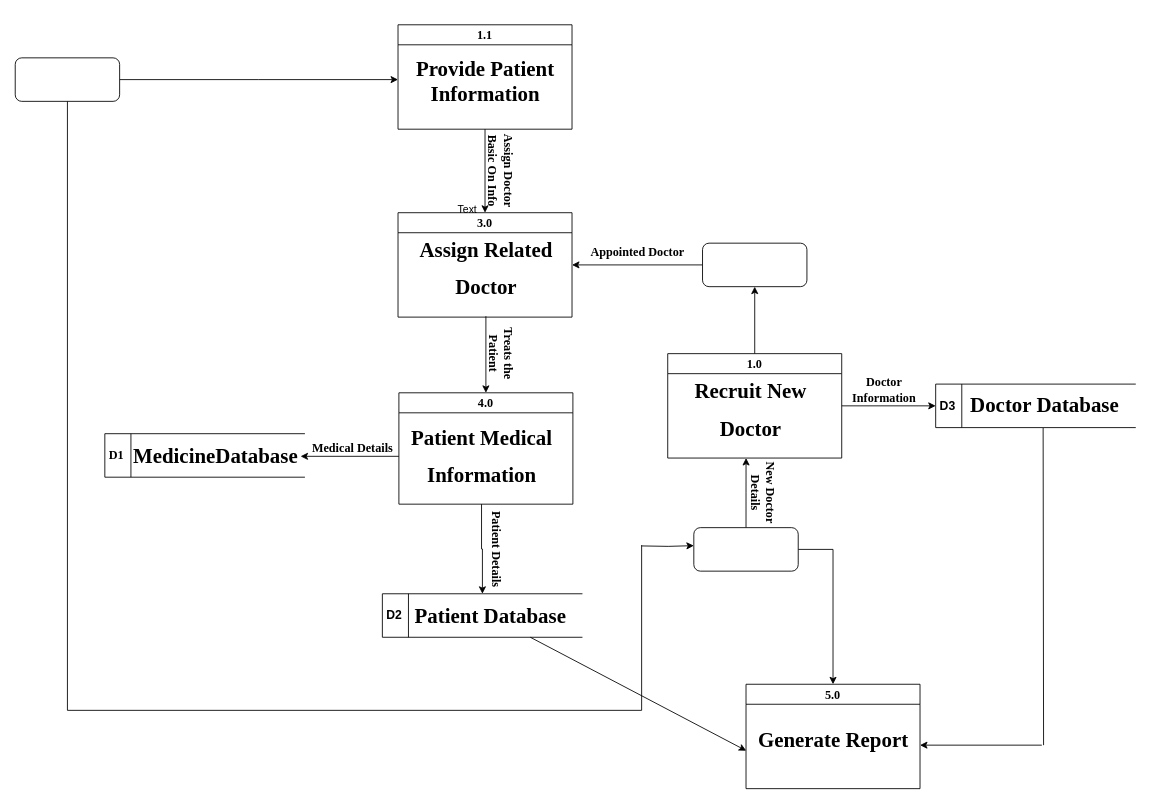
The diagram is 1162 pixels wide and 804 high, and some of its shapes have lost their labels. The centre of each missing label's shape, as x and y in pixels:
Admin: point 745,549
Doctor: point 754,264
Patient: point 67,79
